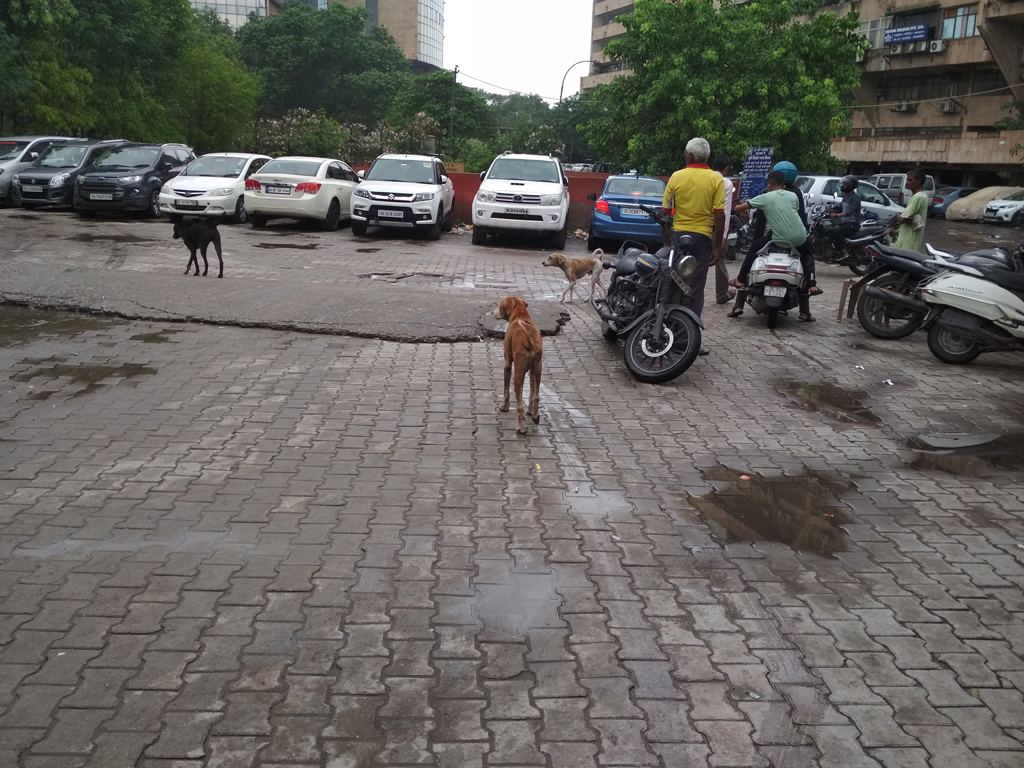dog: (491, 297, 544, 434), (542, 247, 607, 304), (173, 210, 227, 278)
